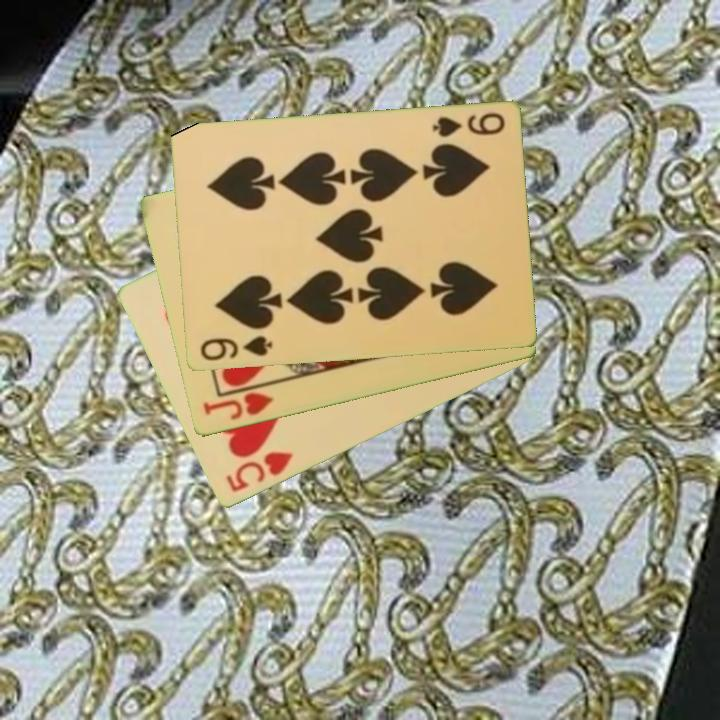5h: (222, 448, 296, 496)
9s: (196, 332, 275, 364), (428, 109, 507, 141)
Jh: (199, 380, 279, 424)
